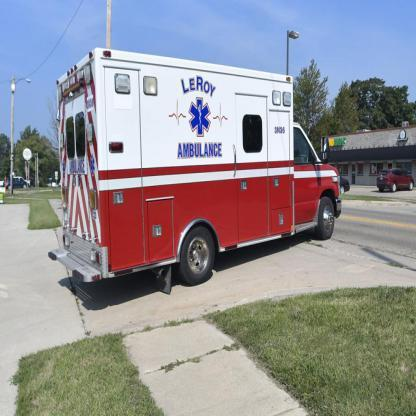ambulance_off: (54, 45, 336, 290)
